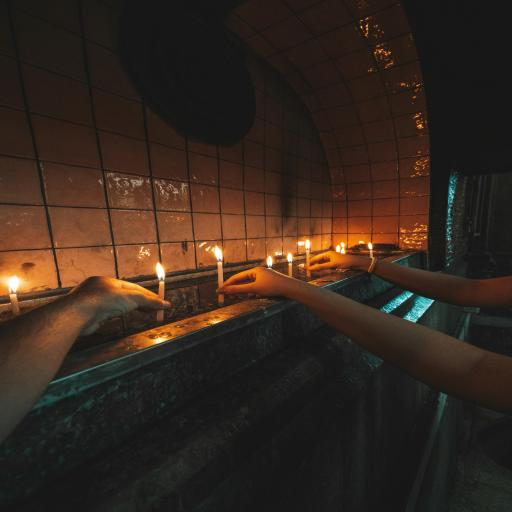candlelight: (132, 256, 180, 323), (209, 243, 234, 304), (2, 272, 33, 317), (301, 235, 319, 277), (332, 239, 351, 257), (287, 252, 298, 281), (364, 237, 379, 258), (261, 251, 276, 270)
